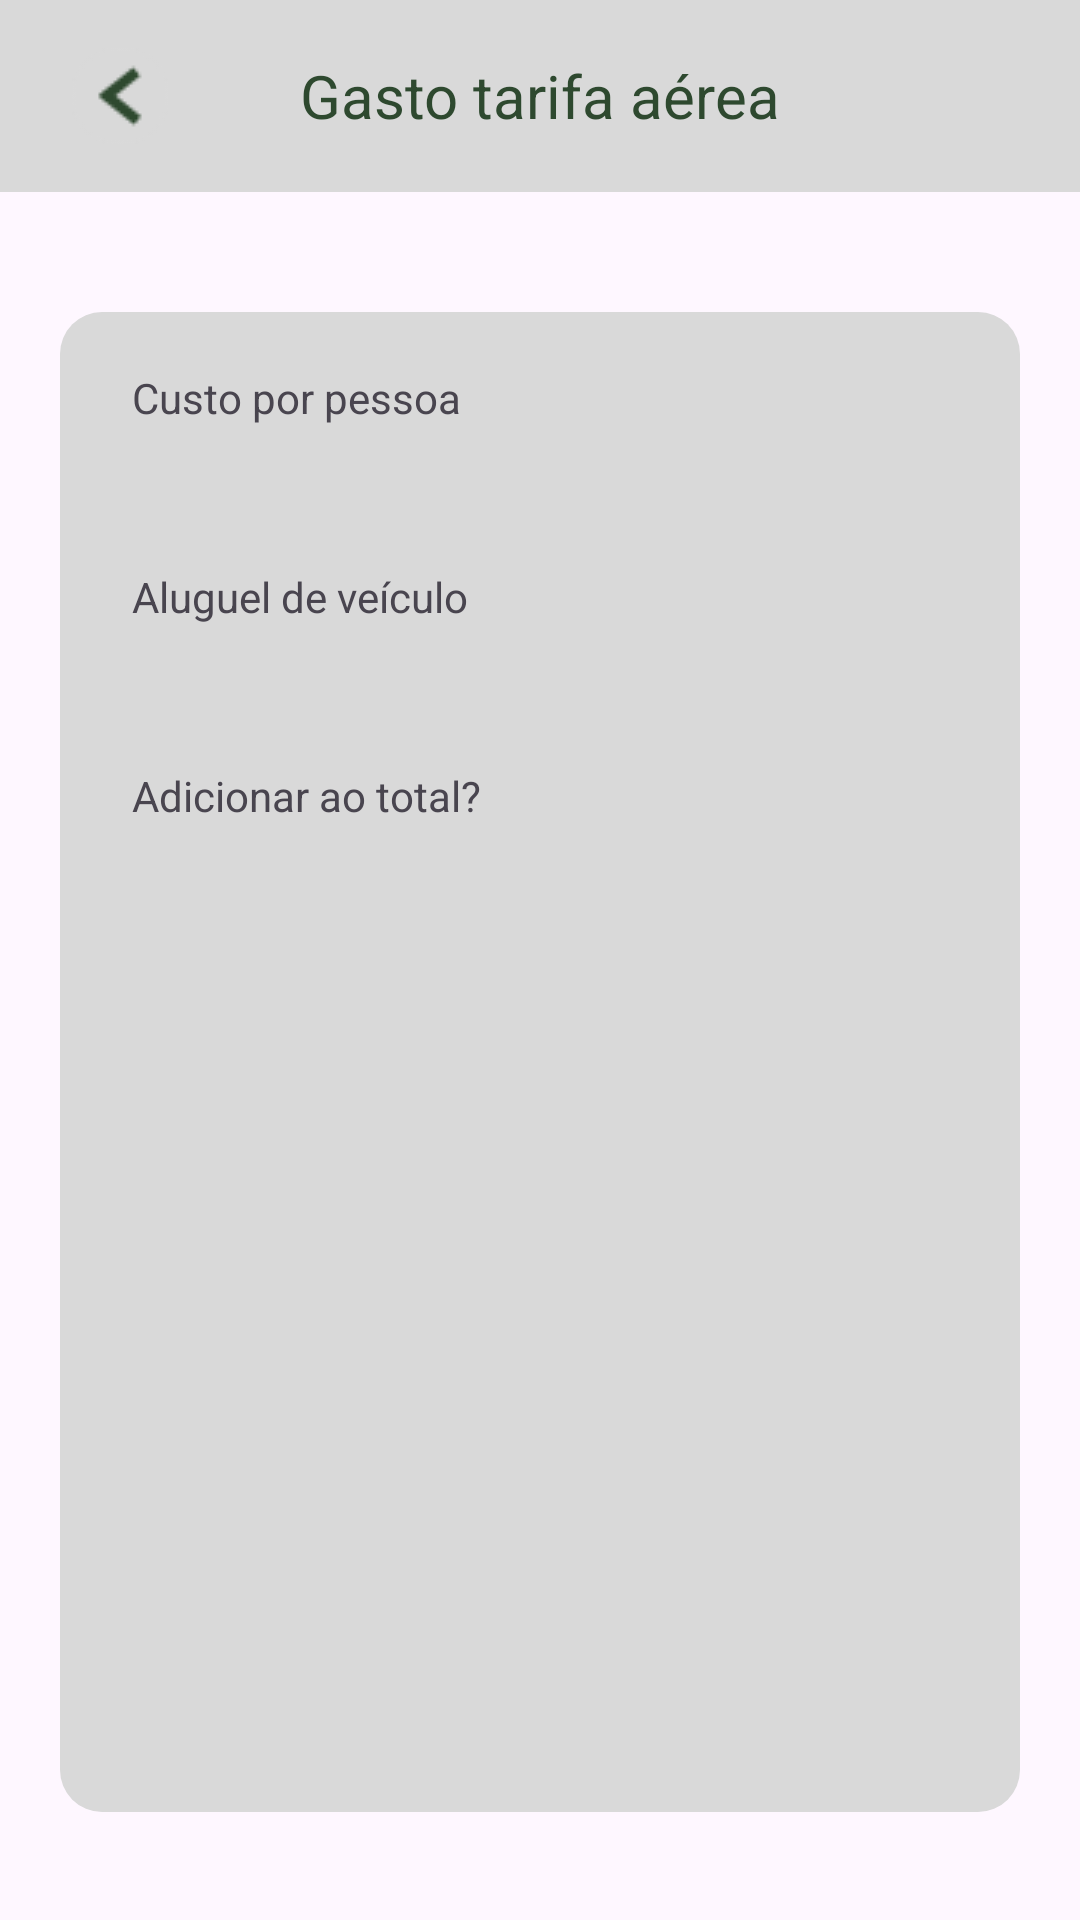

Screen size 1080w x 1920h. Icon name, then its box in pixels as bbox=(x1, y1, x2, y2):
Voltar: bbox=(98, 66, 142, 126)
